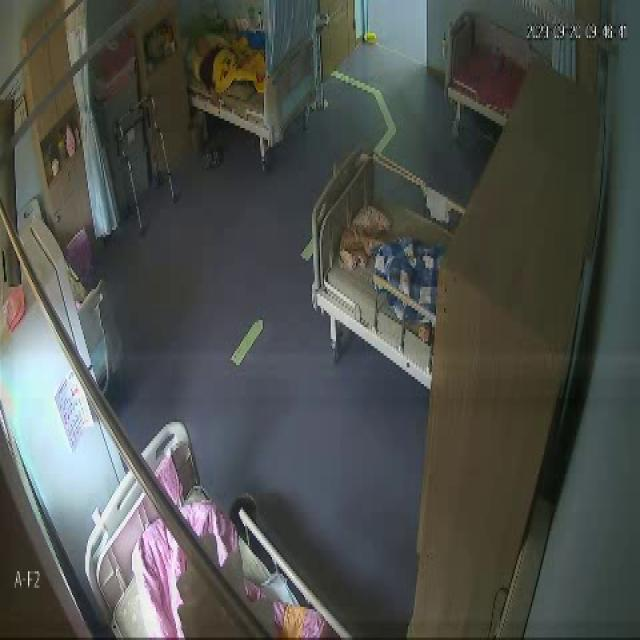bed: (85, 422, 318, 640), (311, 145, 444, 388), (187, 18, 314, 144), (434, 11, 524, 116)
